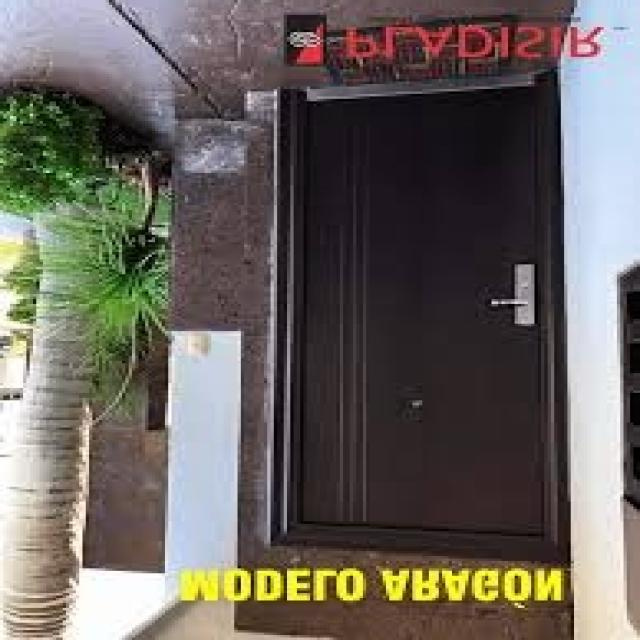door: (282, 71, 563, 554)
